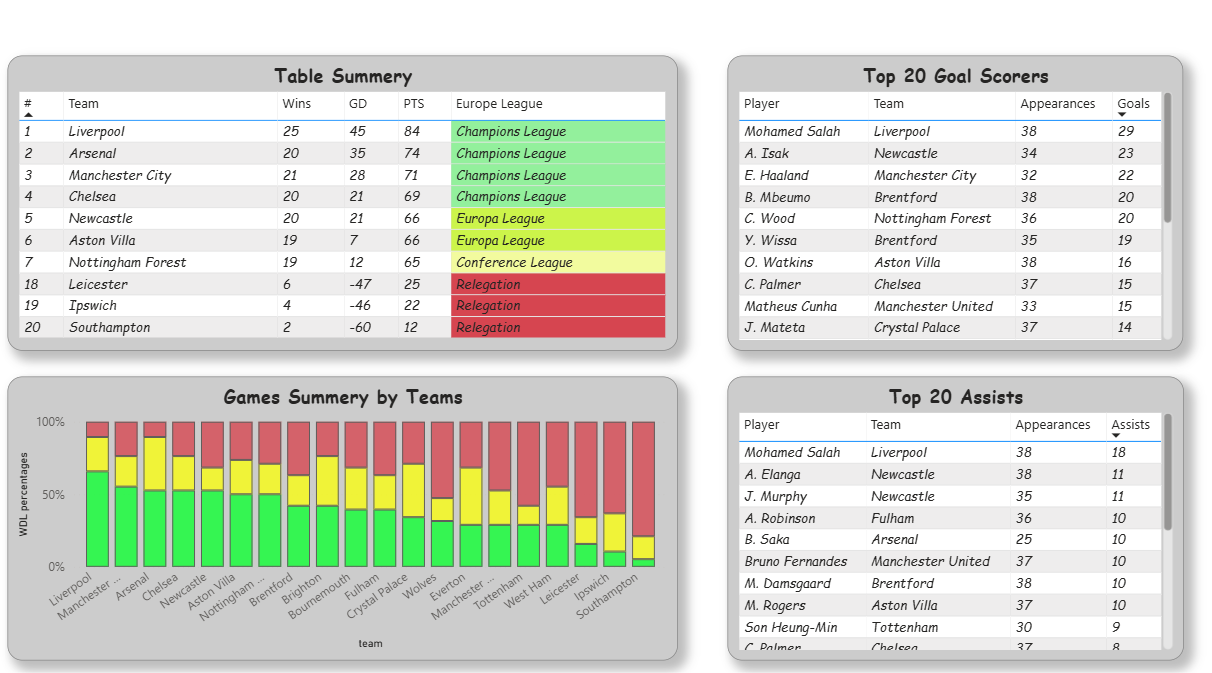

Layout of this report page (visuals, bound fields, positions):
{"tool":"powerbi","page":{"name":"Page 1","canvas":[1280,720],"ordinal":0},"visuals":[{"type":"tableEx","title":"Table Summery","fields":{"Values":["epl_standings.rank","epl_standings.team","epl_standings.wins","epl_standings.goal_difference","epl_standings.points","epl_standings.Europe League"]},"box":[22.7,83.3,676.8,298.3],"z":0},{"type":"tableEx","title":"Top 20 Goal Scorers","fields":{"Values":["epl_top_scorers.player","epl_top_scorers.team","epl_top_scorers.appearances","epl_top_scorers.goals"]},"box":[749.5,83.3,460.3,298.3],"z":1000},{"type":"tableEx","title":"Top 20 Assists","fields":{"Values":["epl_top_assists.player","epl_top_assists.team","epl_top_assists.appearances","epl_top_assists.assists"]},"box":[749.7,407.7,460.4,286.4],"z":2000},{"type":"hundredPercentStackedColumnChart","title":"Games Summery by Teams","fields":{"Category":["epl_standings.team"],"Y":["epl_standings.wins","epl_standings.draws","epl_standings.losses"]},"box":[23.4,407.7,676.7,286.4],"z":3000}]}

Visuals, with their boxes in screenshot pixels (x1, y1, x2, y2), scaled from the page's 1280x720 canvas onto the 1212x673 screenshot:
"Table Summery" tableEx: <region>21, 78, 662, 357</region>
"Top 20 Goal Scorers" tableEx: <region>710, 78, 1146, 357</region>
"Top 20 Assists" tableEx: <region>710, 381, 1146, 649</region>
"Games Summery by Teams" hundredPercentStackedColumnChart: <region>22, 381, 663, 649</region>
